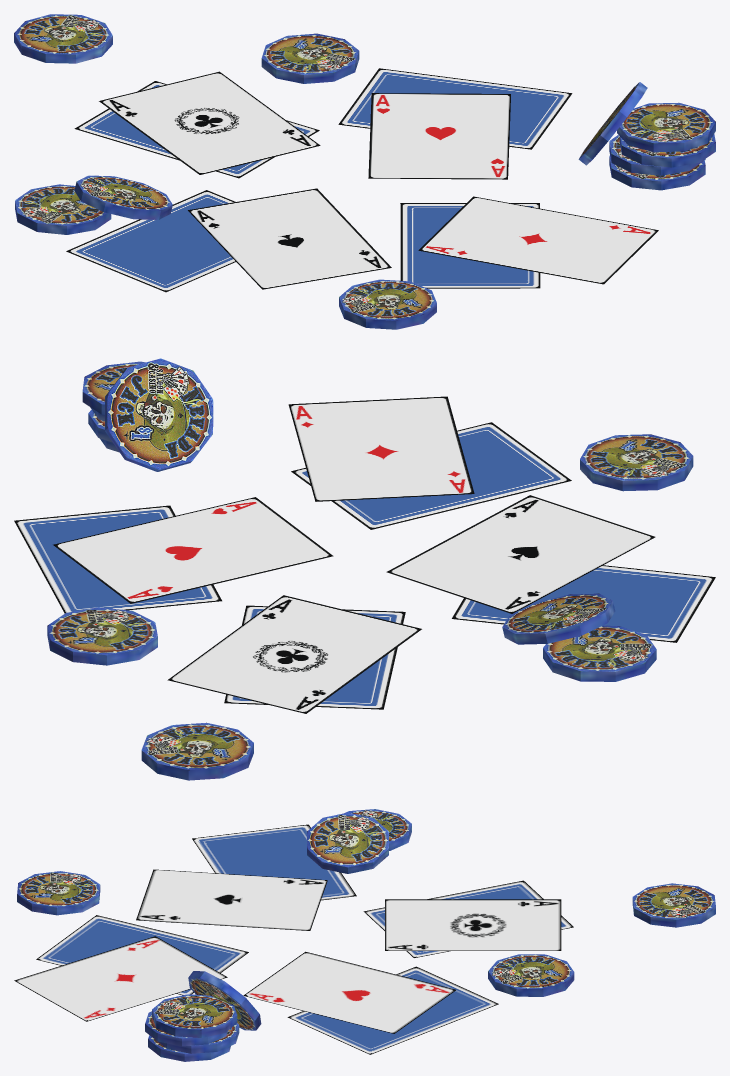
File: bottom.dae
3 views of the same model, one above another, from view 1: azimuth 30°, elevation 25°; view 2: azimuth 150°, elevation 25°; view 3: azimuth 270°, elevation 25° (orthographic). The views are drawn at different scales.
Visible parts, largest first — view 1: diamondsAce, heartsAce, clubsAce, spadesAce, flipped3, flipped4, flipped2, marker9, marker8, marker10, marker6, marker1 (+6 smaller); view 2: heartsAce, diamondsAce, spadesAce, clubsAce, marker7, flipped4, flipped3, flipped2, marker10, marker9, marker8, marker1 (+3 smaller); view 3: spadesAce, clubsAce, heartsAce, diamondsAce, flipped3, flipped2, flipped4, marker2, marker8, marker9, marker10, marker6 (+6 smaller).
Part boxes in pixels (box(x1,y1,x2,y2)): diamondsAce: box(418, 196, 658, 284); heartsAce: box(368, 93, 510, 179); clubsAce: box(99, 71, 320, 174); spadesAce: box(188, 188, 391, 289); flipped3: box(66, 190, 235, 292); flipped4: box(400, 203, 540, 288); flipped2: box(338, 68, 572, 149); marker9: box(14, 14, 112, 63); marker8: box(261, 33, 359, 83); marker10: box(339, 279, 436, 329); marker6: box(617, 102, 715, 152); marker1: box(15, 184, 111, 234); heartsAce: box(53, 497, 333, 603); diamondsAce: box(288, 396, 474, 501); spadesAce: box(386, 495, 655, 613); clubsAce: box(167, 595, 421, 713); marker7: box(104, 358, 213, 471); flipped4: box(291, 422, 571, 529); flipped3: box(452, 565, 715, 642); flipped2: box(14, 505, 221, 613); marker10: box(580, 434, 693, 491); marker9: box(141, 722, 253, 780); marker8: box(47, 607, 157, 665); marker1: box(543, 625, 656, 681); spadesAce: box(136, 869, 327, 930); clubsAce: box(385, 899, 561, 950); heartsAce: box(243, 951, 455, 1033); diamondsAce: box(14, 936, 227, 1021); flipped3: box(192, 824, 356, 900); flipped2: box(287, 966, 498, 1054); flipped4: box(36, 915, 248, 995); marker2: box(307, 812, 388, 873); marker8: box(488, 954, 574, 996); marker9: box(632, 883, 715, 927); marker10: box(17, 871, 100, 915); marker6: box(152, 994, 237, 1037).
Size of the model in its own units: 8.22 by 1.07 by 9.76.
6 materials, 6 textured.
